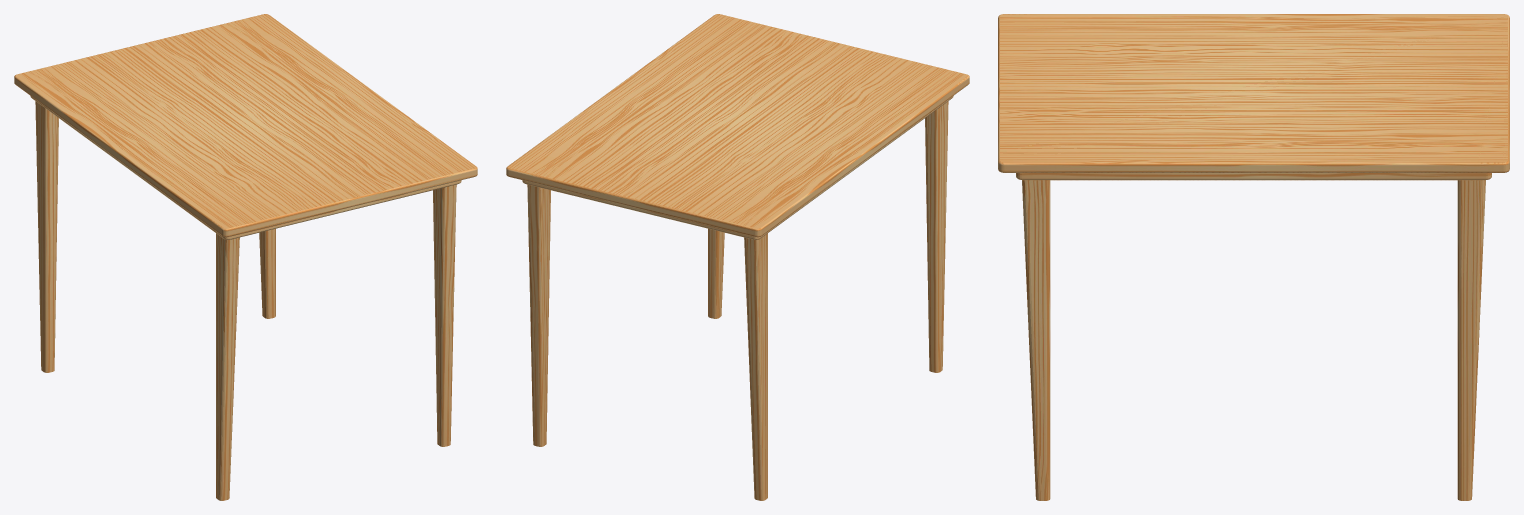
The model's file is стол.fbx.
3 views of the same model, side by side, from view 1: azimuth 30°, elevation 25°; view 2: azimuth 150°, elevation 25°; view 3: azimuth 270°, elevation 25° (orthographic). The views are drawn at different scales.
Parts seen in each view (by area): view 1: Cube.005; view 2: Cube.005; view 3: Cube.005.
Part boxes in pixels (box(x1,y1,x2,y2)): Cube.005: box(14, 14, 477, 500); Cube.005: box(506, 14, 969, 500); Cube.005: box(998, 14, 1509, 500).
Bounding box in the file's own units: 4941 × 5287 × 7117.
1 material, 1 textured.
